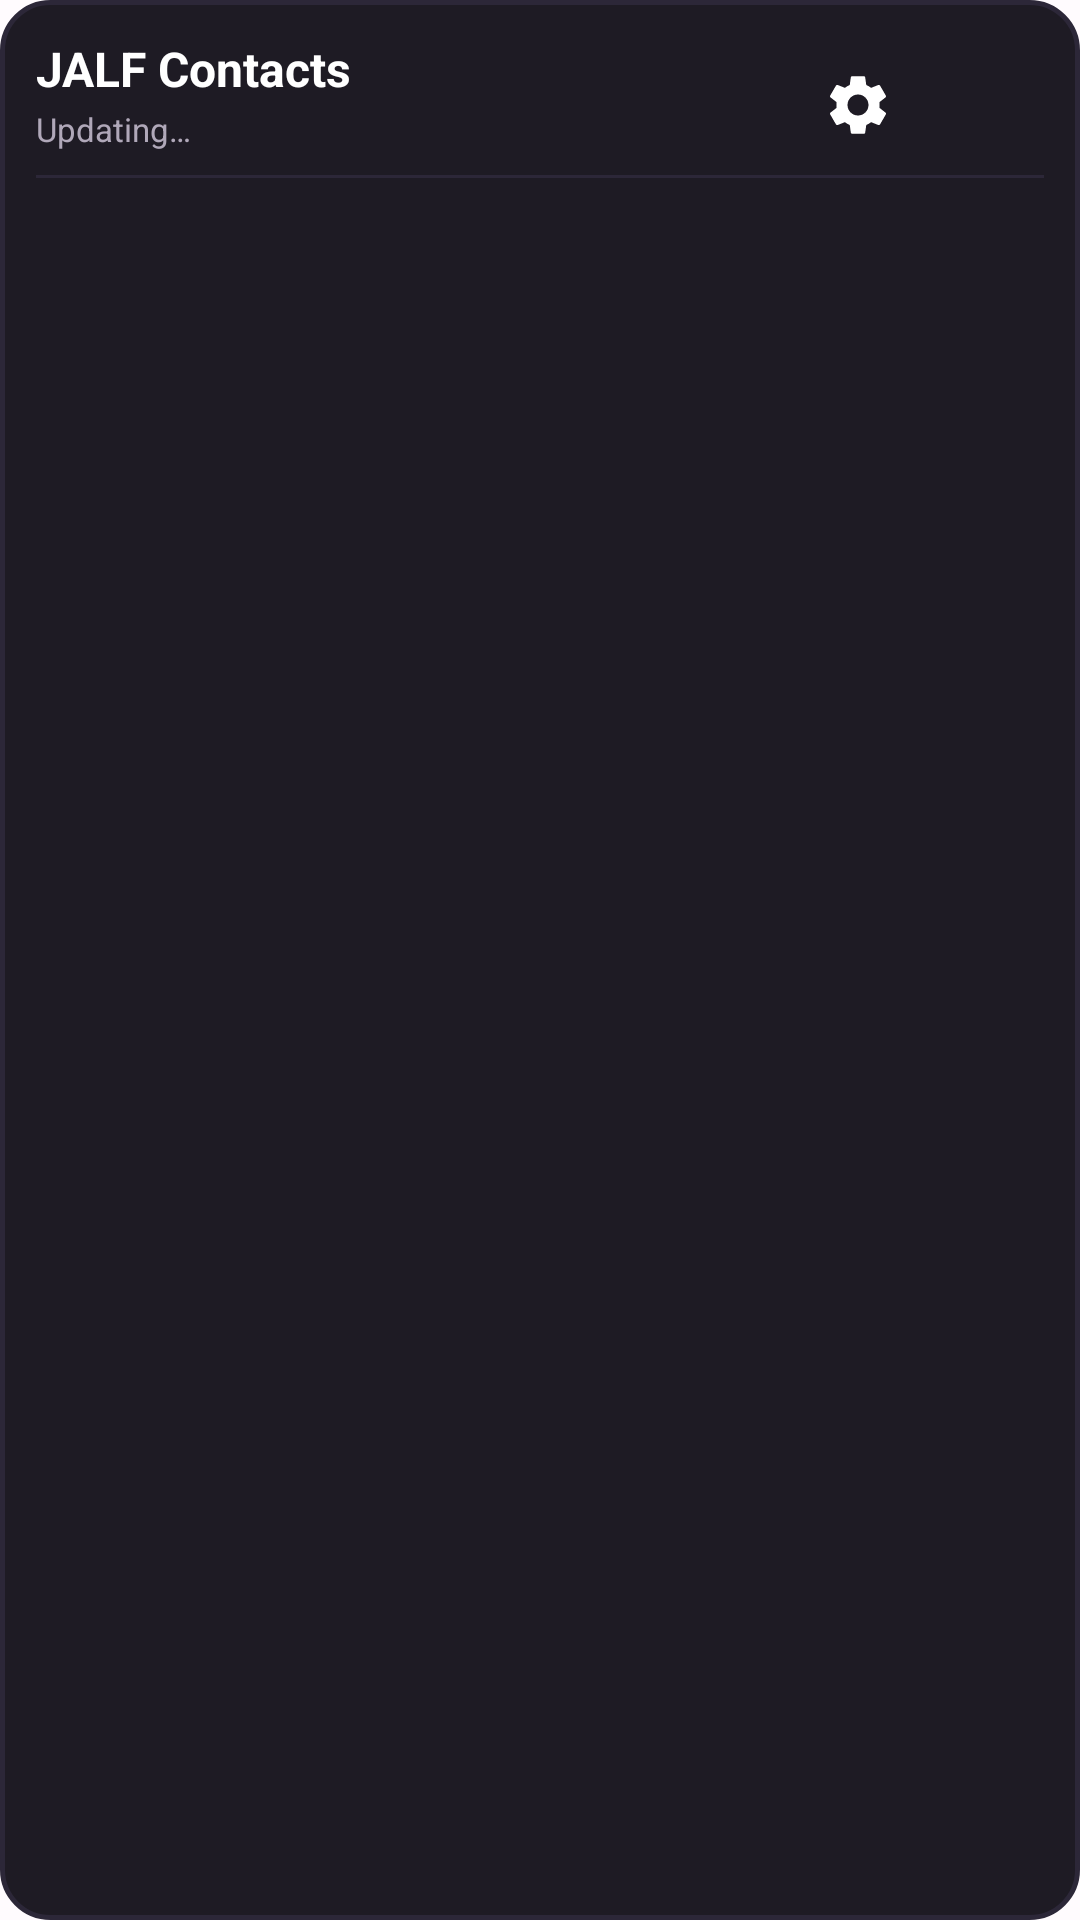

Icon bounding boxes for this 1080 x 1920 phone screenshot, format (x1, y1, x2, y2):
Widget Settings: (830, 76, 886, 134)
